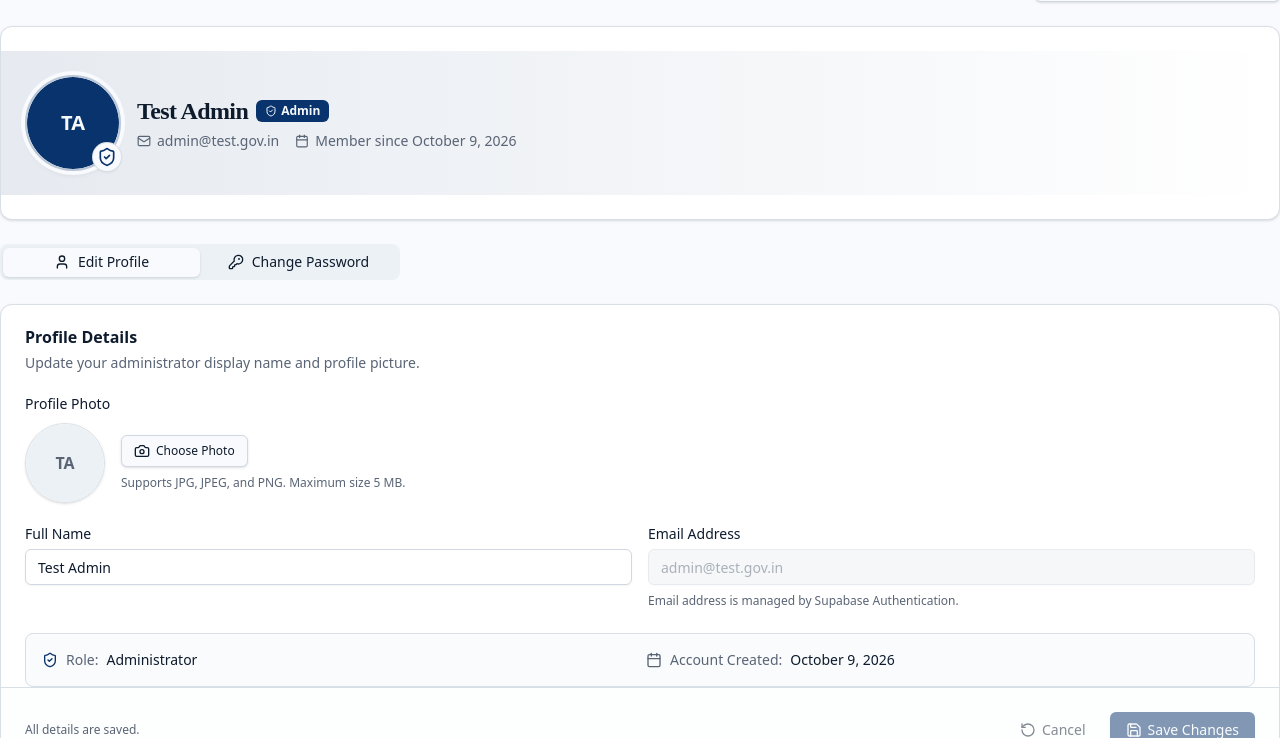
it: Admin Profile - UI & Authorization › validates password change requirements and updates password via Supabase Auth
Switch to Change Password tab
Click the tab with test id "tab-security": click(298, 262) [200,248,397,276]
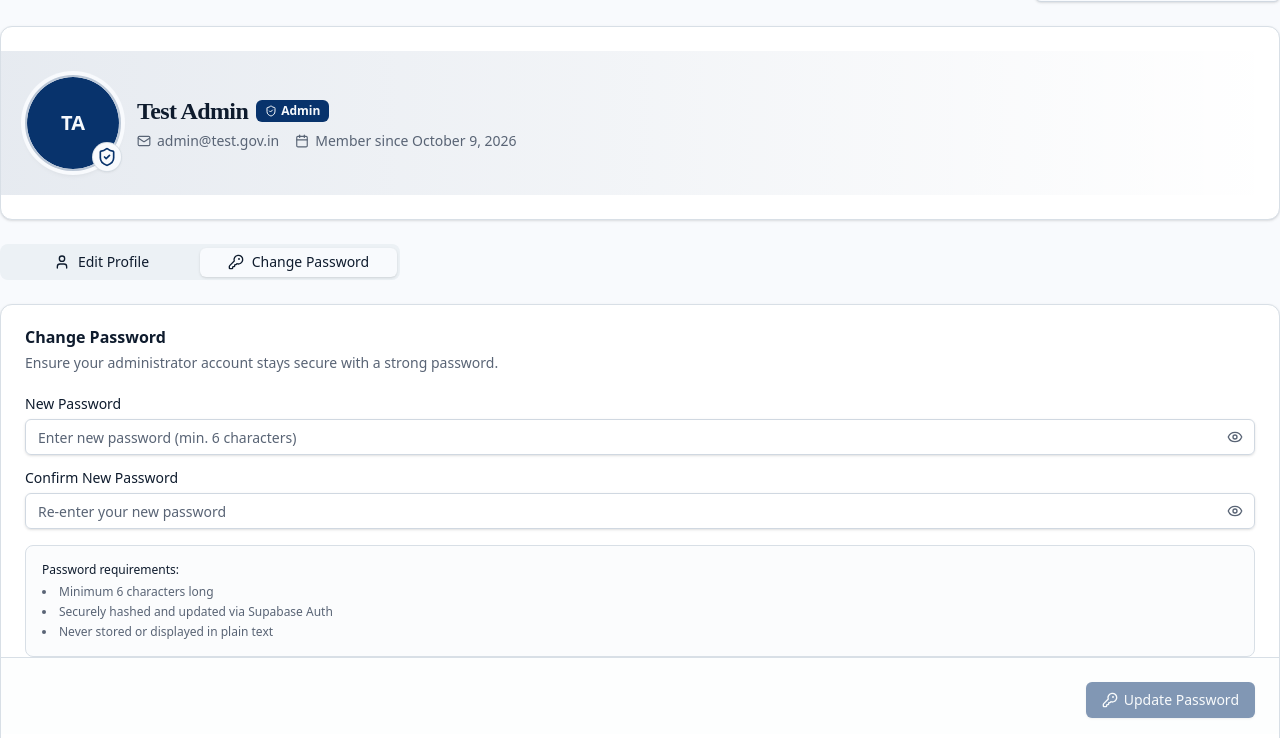
Now the button "Update Password" is disabled, box [1086,682,1255,718]
Type mismatched passwords
In the password field labelled "New Password": (640, 437) [25,419,1255,455], type "secret123"
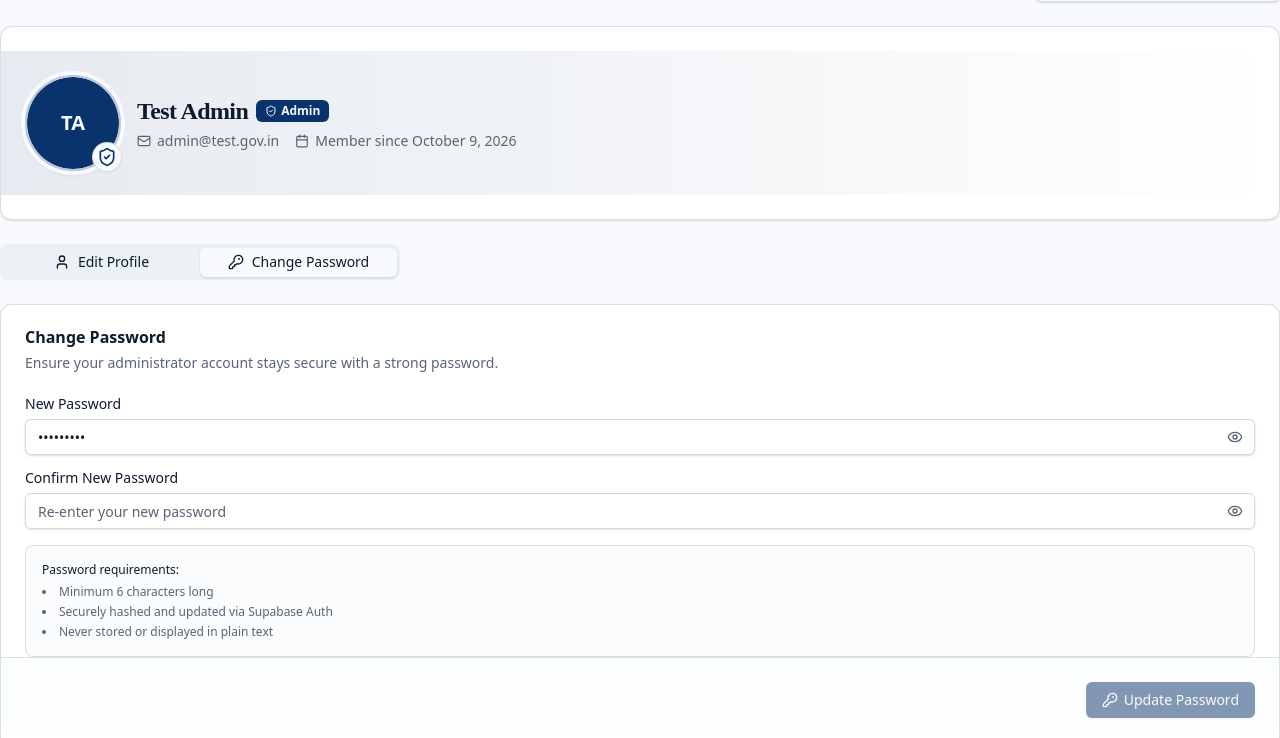
In the password field labelled "Confirm New Password": (640, 511) [25,493,1255,529], type "different123"
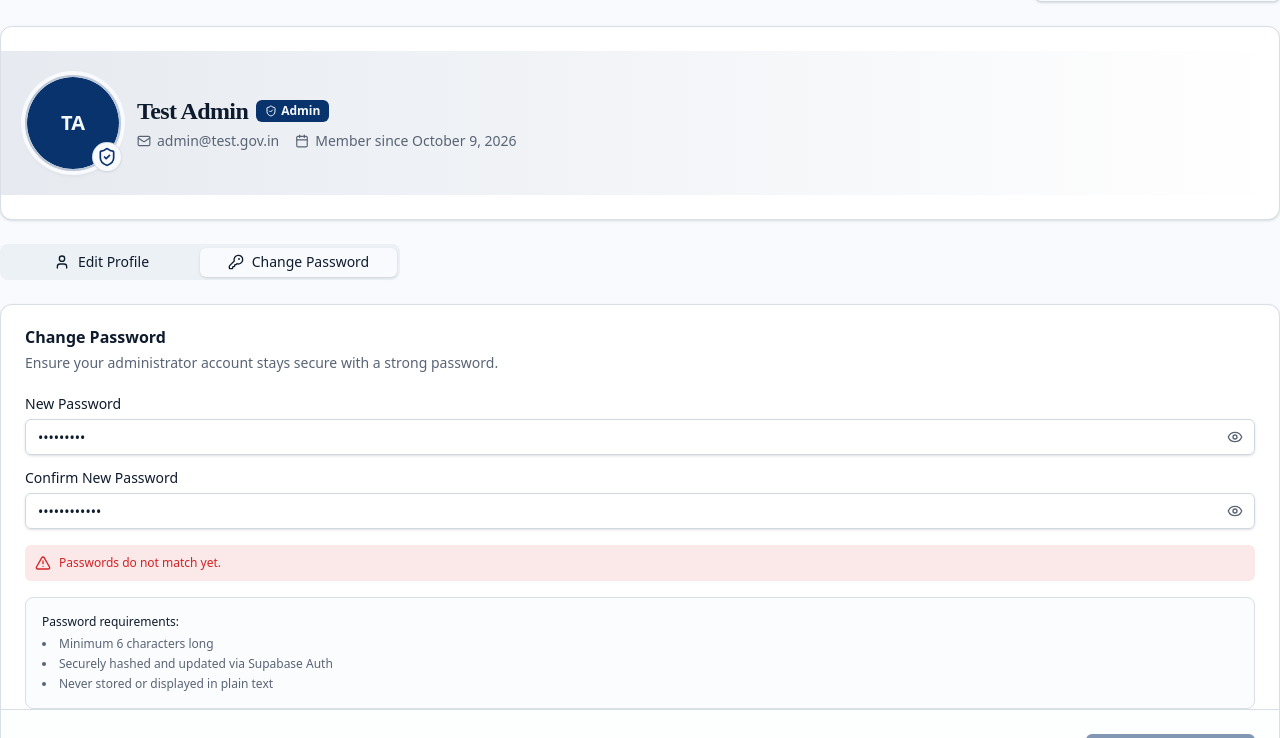
Now the text "Passwords do not match yet." is shown, box [59,555,221,571]
Type matching passwords
In the password field labelled "Confirm New Password": (640, 511) [25,493,1255,529], type "secret123"
(page scrolled)
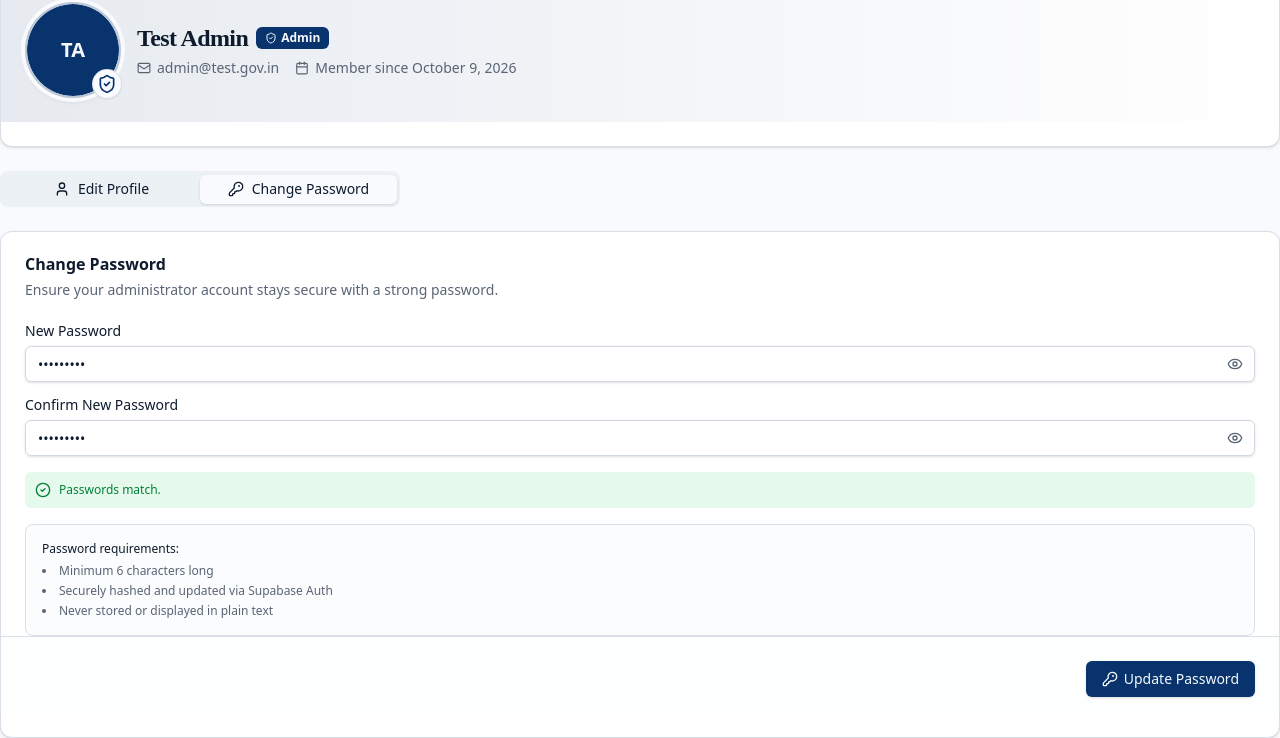
Now the text "Passwords match." is shown, box [59,482,161,498]
Now the button "Update Password" is enabled
Click the button "Update Password": click(1170, 679) [1086,661,1255,697]
(page scrolled)
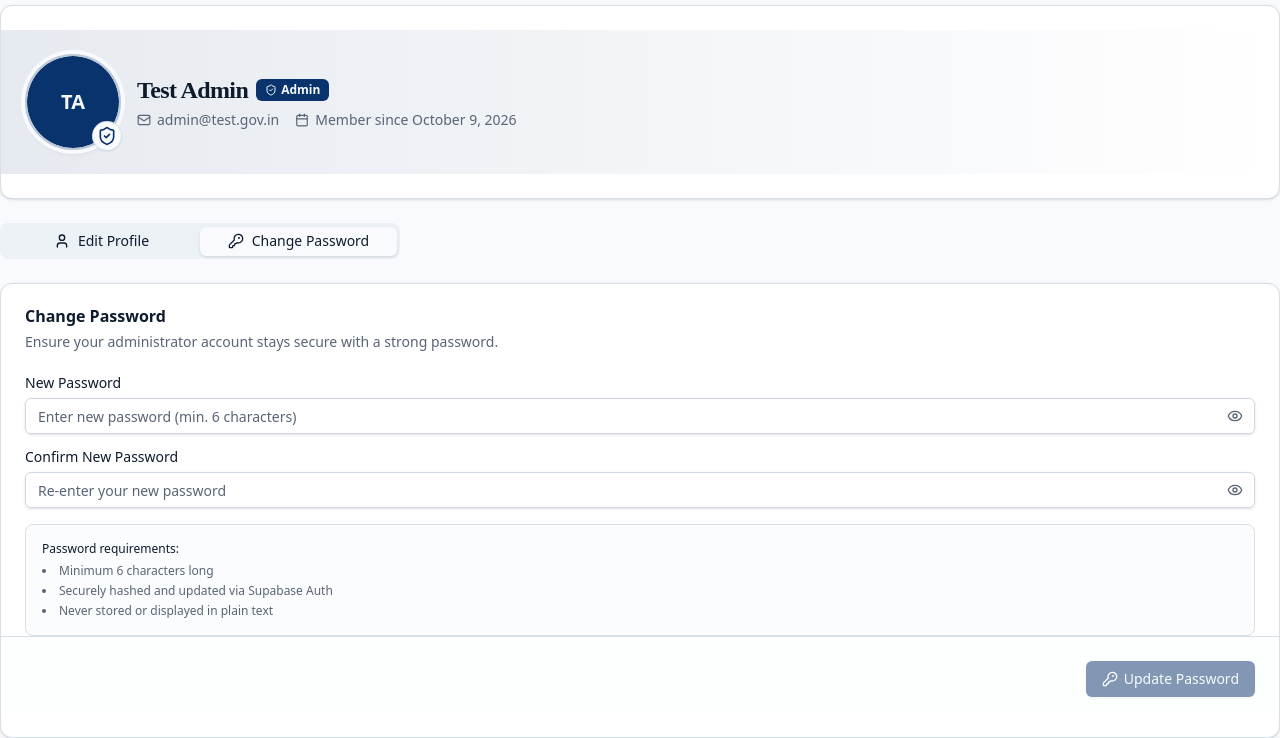
Now the password field labelled "New Password" is empty, box [25,398,1255,434]
Now the password field labelled "Confirm New Password" is empty, box [25,472,1255,508]
